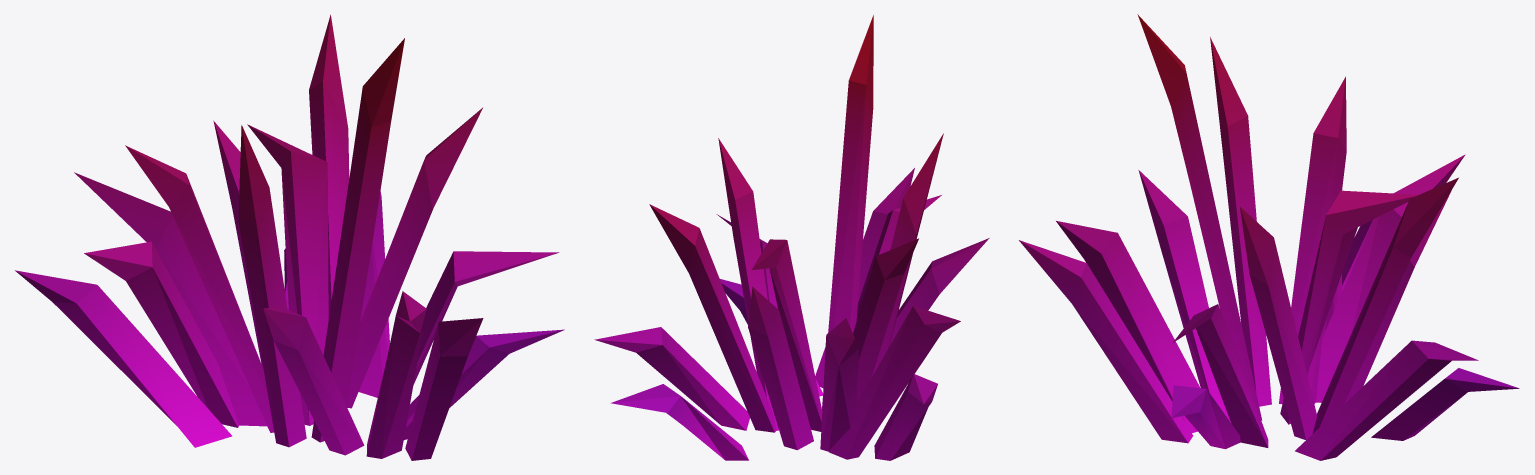
The model's file is synty-plant-grass-02.gltf.
The picture shows the model from 3 angles, left to right: view 1: azimuth 30°, elevation 25°; view 2: azimuth 150°, elevation 25°; view 3: azimuth 270°, elevation 25°; orthographic projection. The views are drawn at different scales.
Parts seen in each view (by area): view 1: SM_Plant_Grass_02; view 2: SM_Plant_Grass_02; view 3: SM_Plant_Grass_02.
Boxes of the visible parts, x1,y1,x2,y2 form: SM_Plant_Grass_02: [15, 14, 564, 460]; SM_Plant_Grass_02: [594, 15, 989, 460]; SM_Plant_Grass_02: [1019, 14, 1519, 460].
Size of the model in its own units: 1.11 by 1.16 by 1.29.
